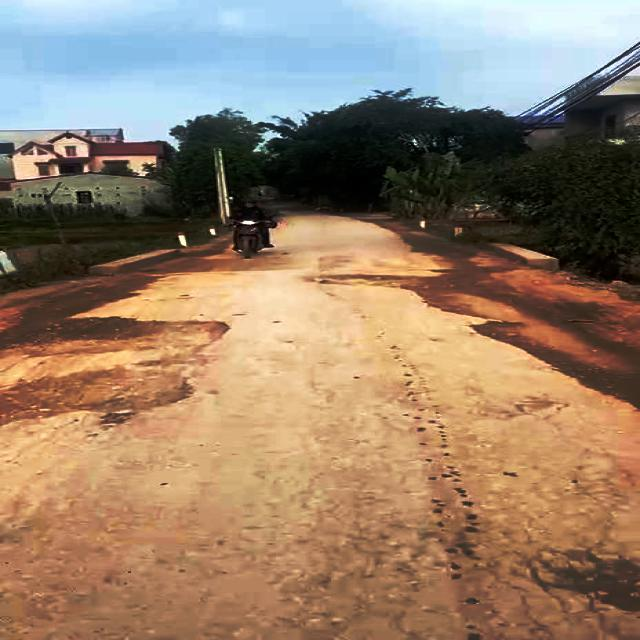pothole: (0, 314, 250, 363), (0, 368, 197, 420), (304, 270, 421, 288)
